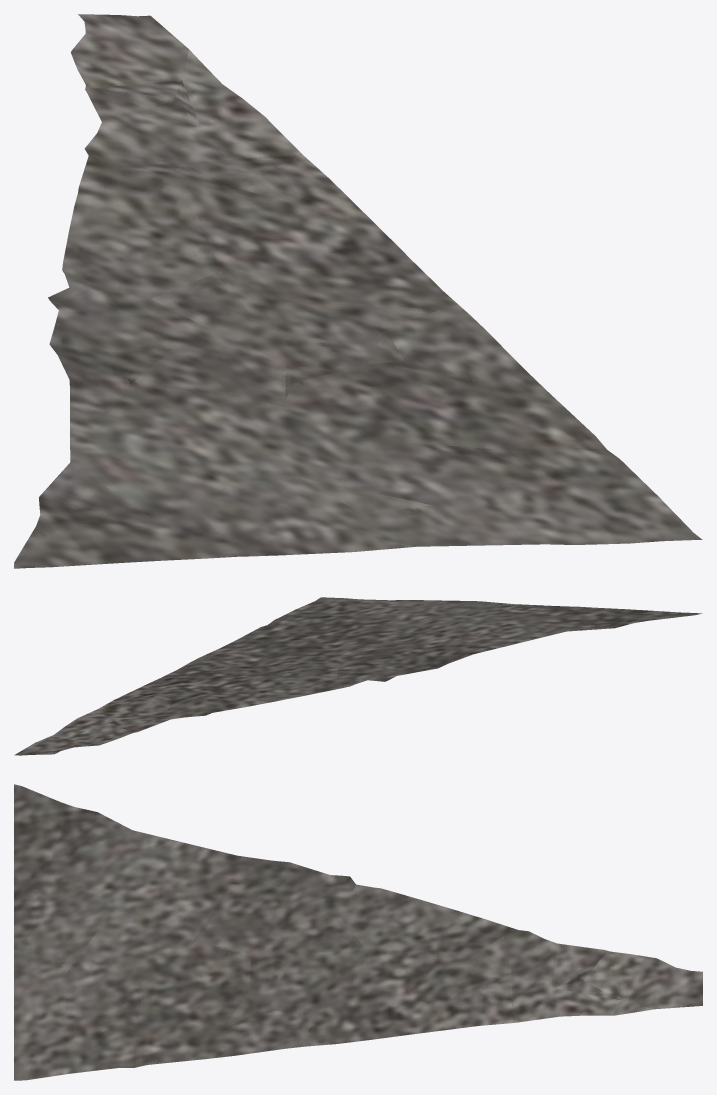
The picture shows the model from 3 angles, top to bottom: view 1: azimuth 30°, elevation 25°; view 2: azimuth 150°, elevation 25°; view 3: azimuth 270°, elevation 25°; orthographic projection. The views are drawn at different scales.
Size of the model in its own units: 0.6029 by 0.1166 by 0.8374.
Materials: 1 (1 with a texture image).
